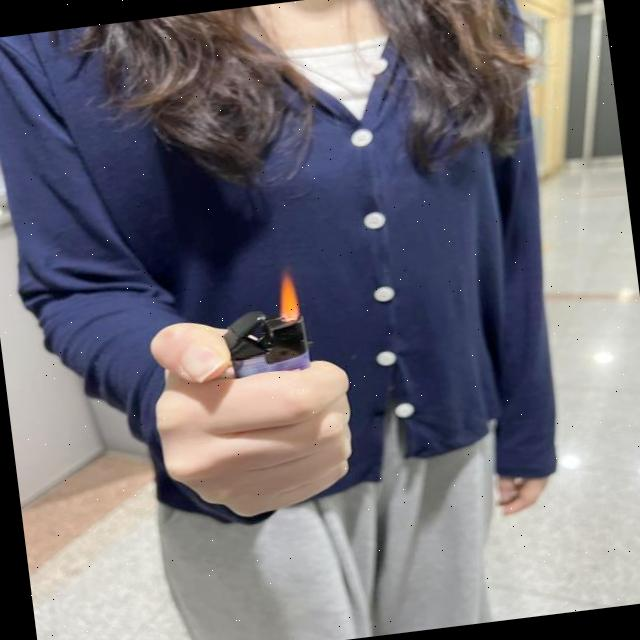fire: (271, 268, 306, 326)
